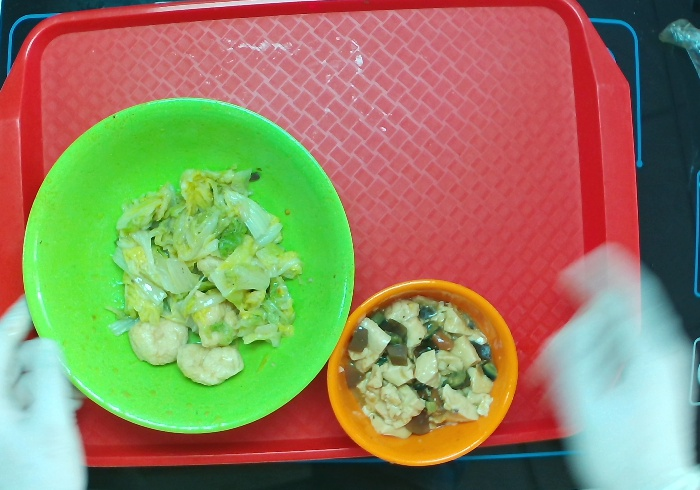YKMZ-Ju_Se_Yuan_Wan: (325, 279, 520, 464)
YKMZ-Lv_Se_Tang_Wan: (22, 95, 357, 437)
